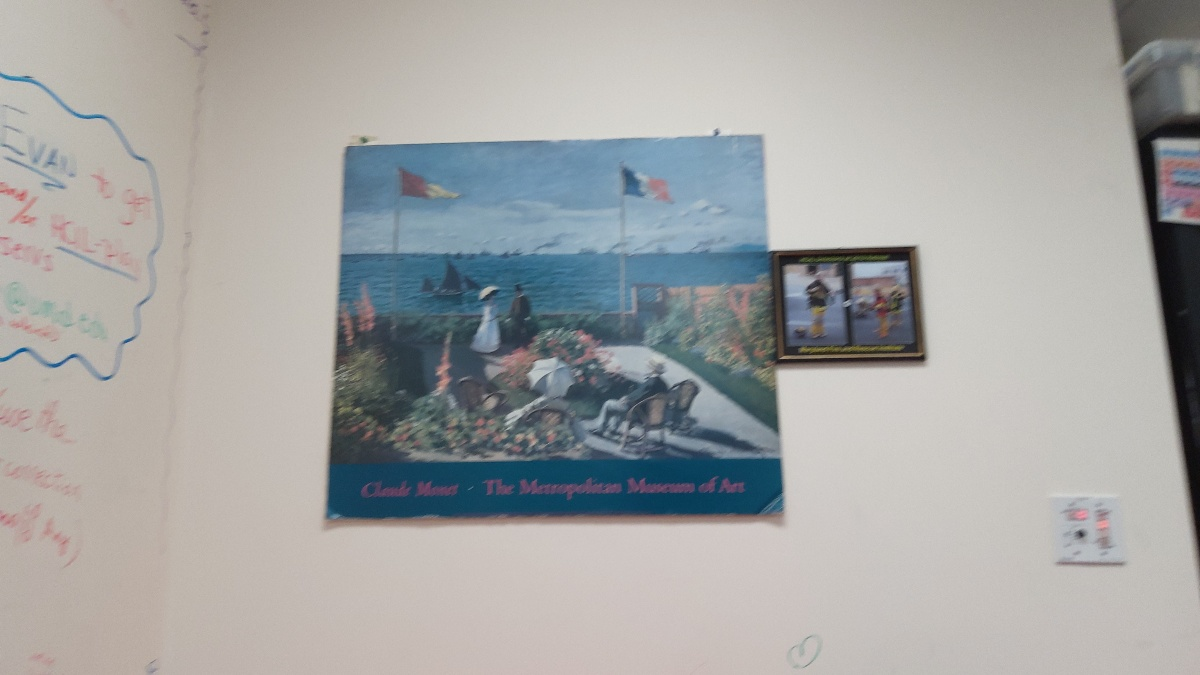poster: (313, 126, 798, 533)
